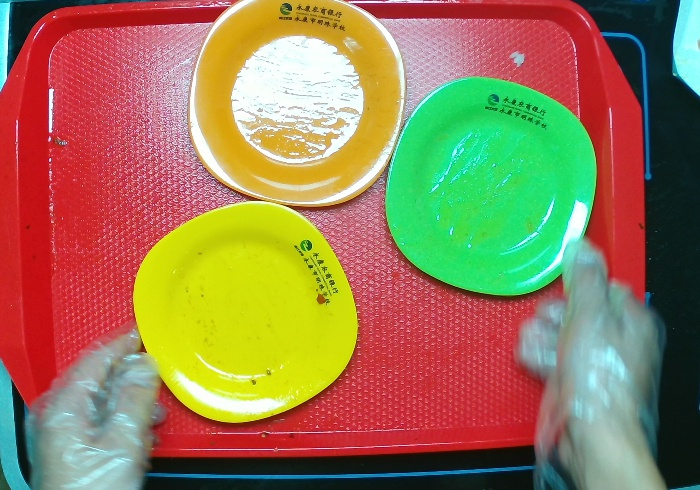YKMZ-Huang_Se_Fang_Die: (132, 200, 358, 425)
YKMZ-Ju_Se_Fang_Die: (188, 1, 407, 209)
YKMZ-Lv_Se_Fang_Die: (385, 76, 599, 298)
